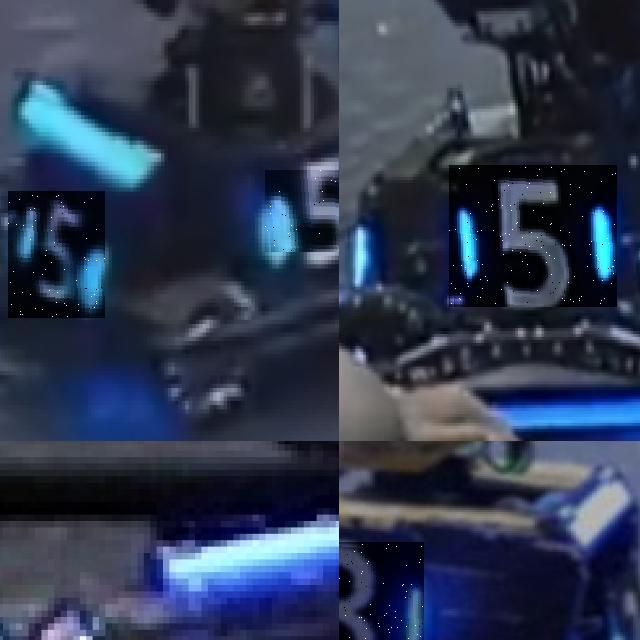B3: (339, 541, 423, 640)
B5: (450, 165, 618, 307), (8, 192, 105, 320), (265, 170, 339, 251)
